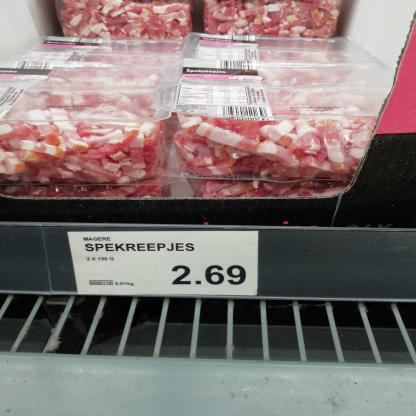prtg: (68, 232, 259, 296)
